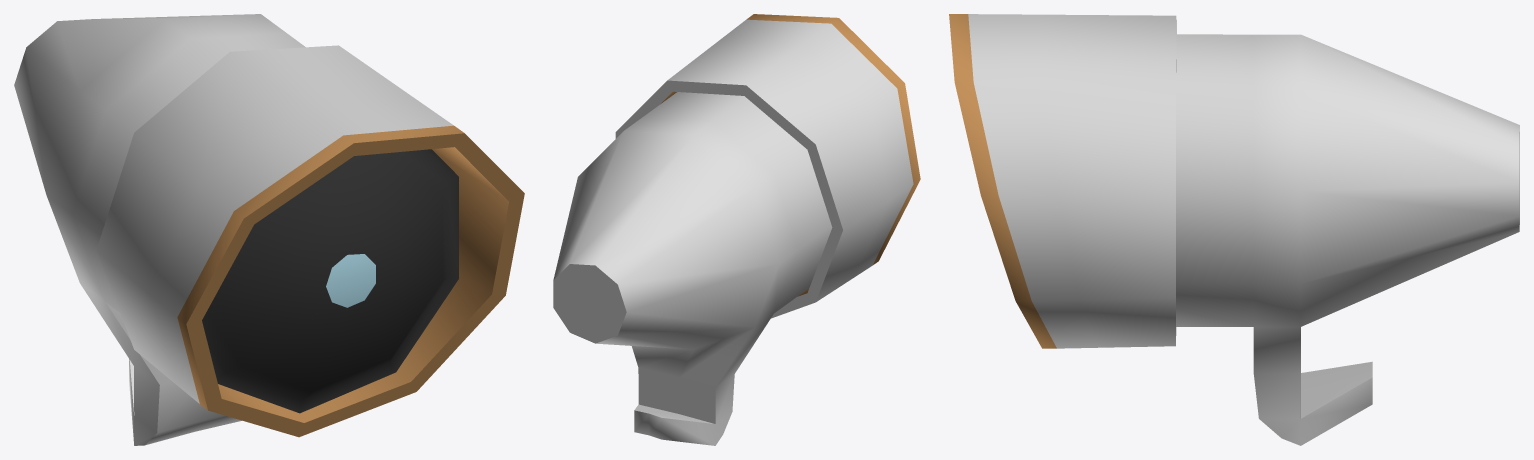
Rendered from GuardBot.fbx.
3 renders of one model, left to right at view 1: azimuth 30°, elevation 25°; view 2: azimuth 150°, elevation 25°; view 3: azimuth 270°, elevation 25°, orthographic. The views are drawn at different scales.
Visible parts, largest first — view 1: camBt; view 2: camBt; view 3: camBt.
Part boxes in pixels (x1,y1,x2,y2): camBt: [14, 14, 524, 445]; camBt: [553, 14, 920, 445]; camBt: [949, 14, 1519, 445].
Size of the model in its own units: 187 by 239 by 311.
